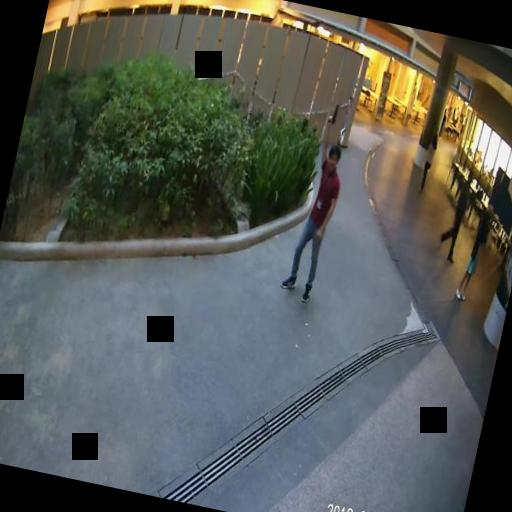Handgun: (326, 100, 338, 123)
